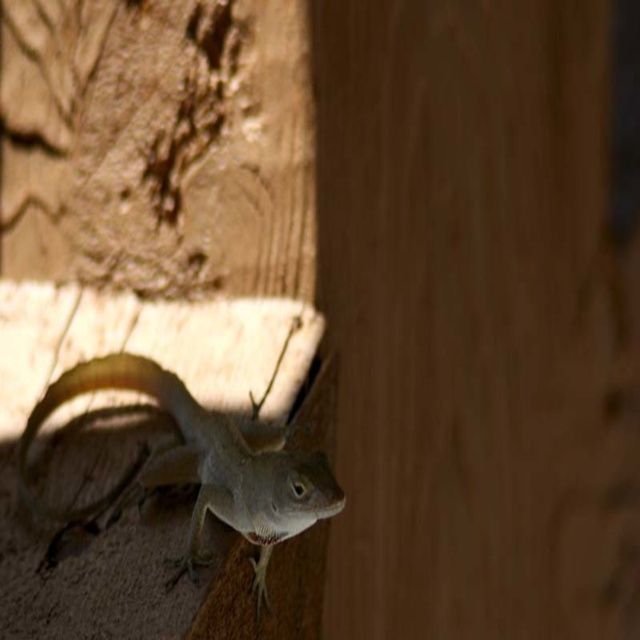Lizard: (38, 296, 351, 620)
